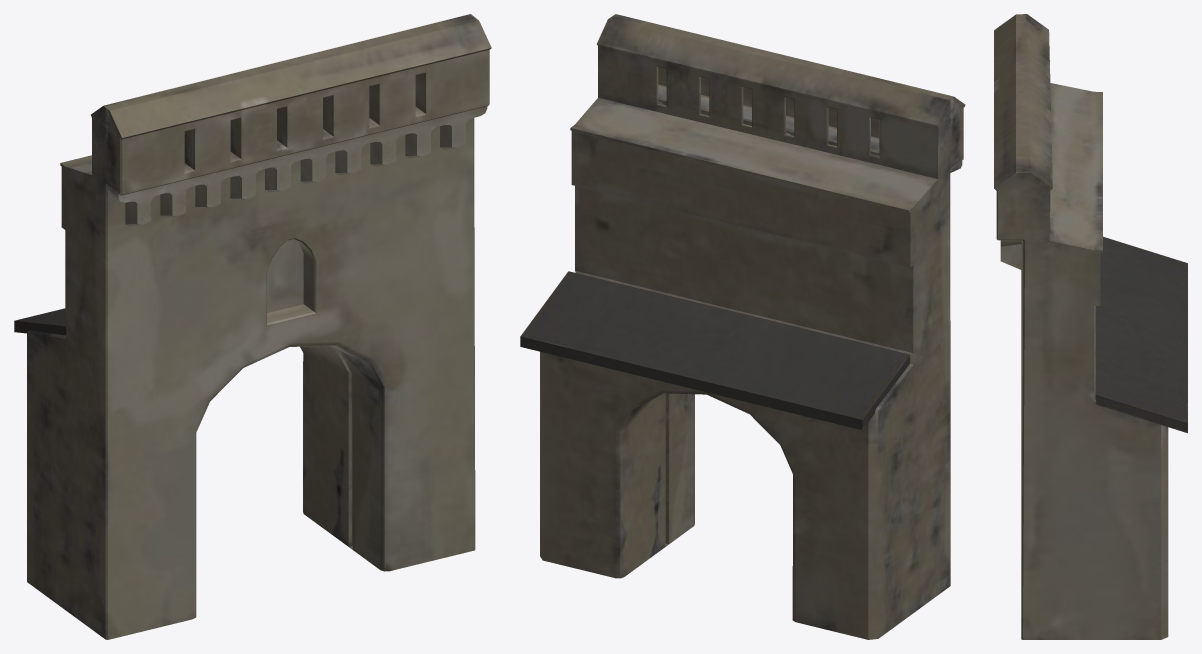
File: fort_gate.gltf
3 views of the same model, side by side, from view 1: azimuth 30°, elevation 25°; view 2: azimuth 150°, elevation 25°; view 3: azimuth 270°, elevation 25° (orthographic). The views are drawn at different scales.
Parts seen in each view (by area): view 1: fort_gate; view 2: fort_gate; view 3: fort_gate.
Part boxes in pixels (x1,y1,x2,y2): fort_gate: (14, 14, 491, 639); fort_gate: (520, 14, 965, 639); fort_gate: (994, 14, 1187, 639).
Bounding box in the file's own units: 12.29 × 16.62 × 6.24.
1 material, 1 textured.
